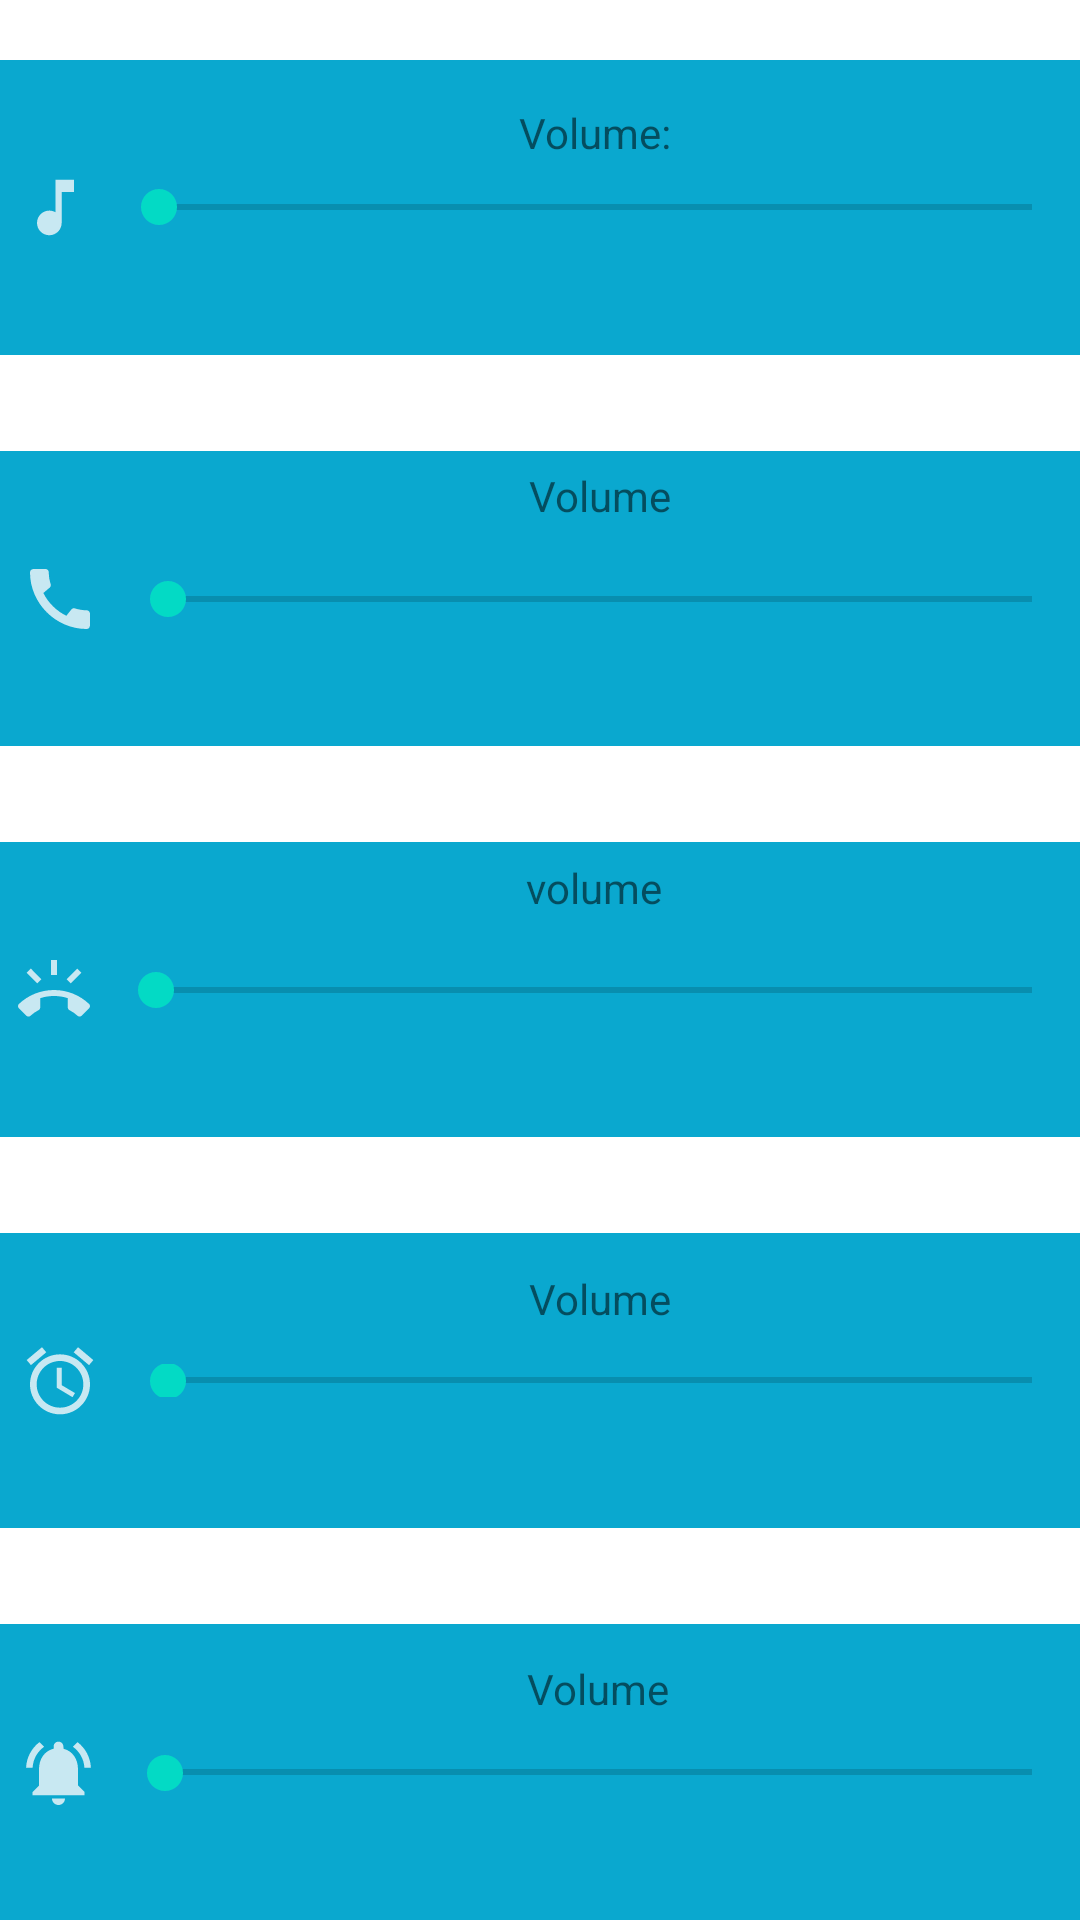

Named icons in this screenshot (1080x1920) and their centers, [x,y]:
alarm: [60,1381]
music: [55,207]
notification: [58,1773]
ring: [54,988]
voicecall: [60,599]
